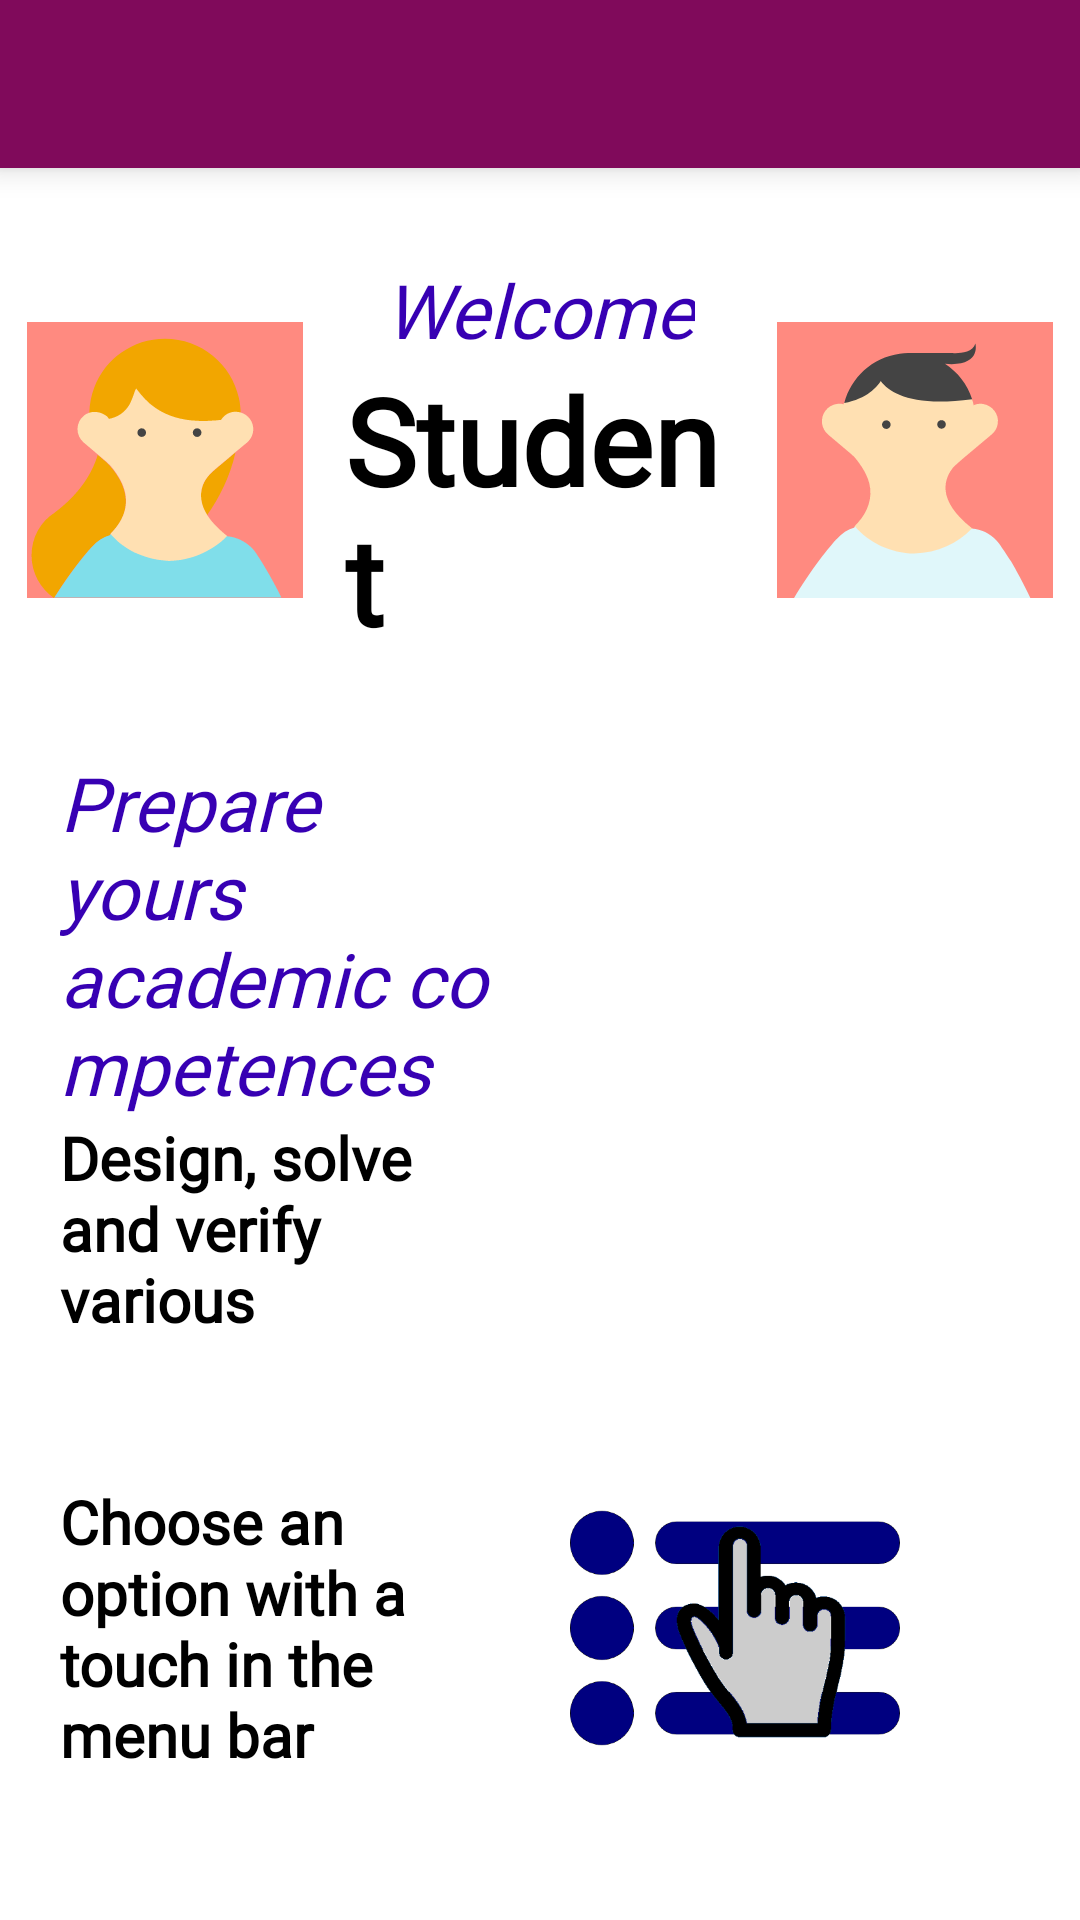

Locate icon controls on the screen. Image size 1080 × 1920, boxes as (x1, y1, x2, y2).
options finger: (570, 1510, 900, 1746)
